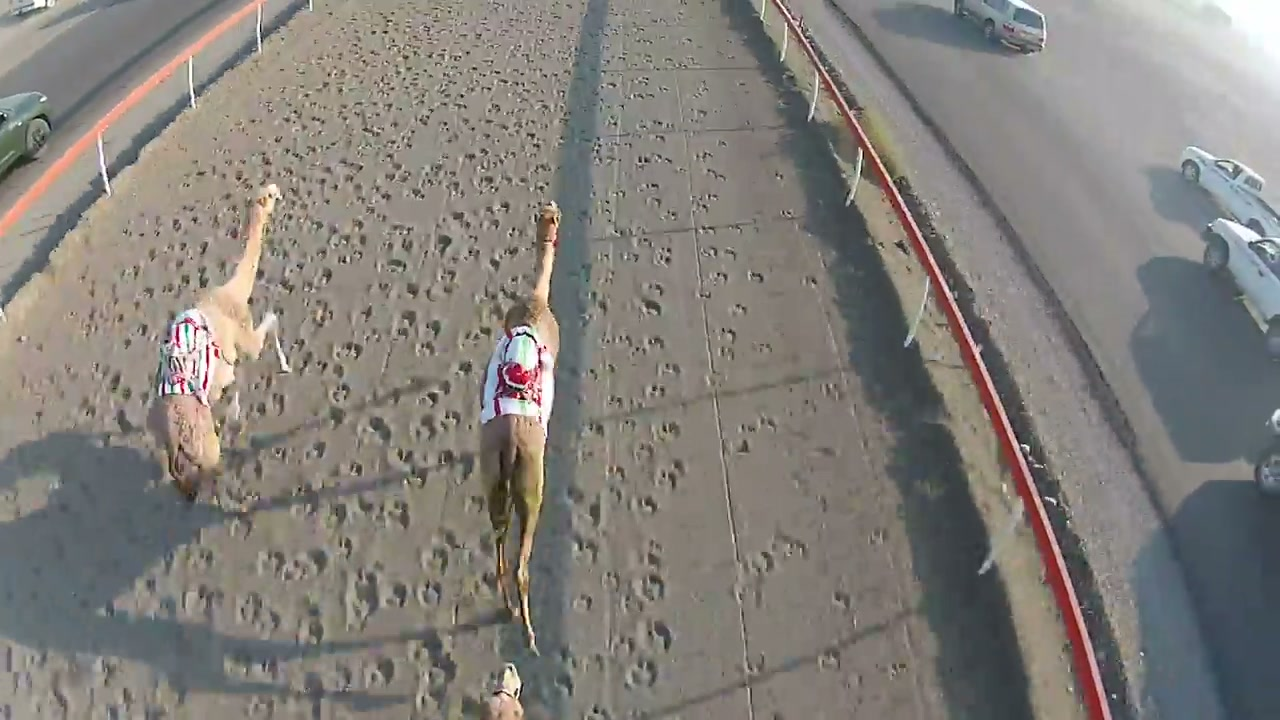animal_footprint: (177, 22, 522, 706), (82, 42, 444, 393), (557, 62, 702, 688), (699, 64, 850, 635)
